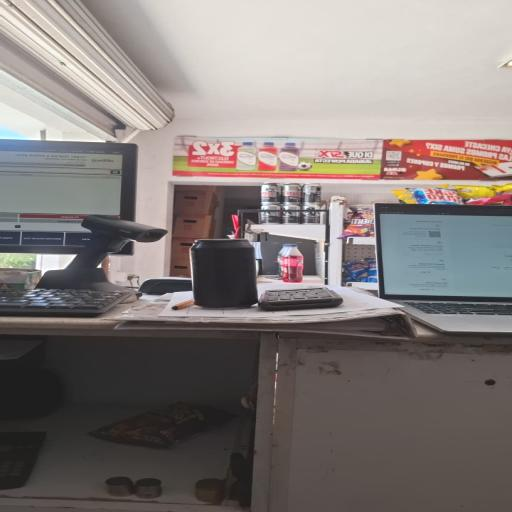LATA: (175, 232, 267, 316)
